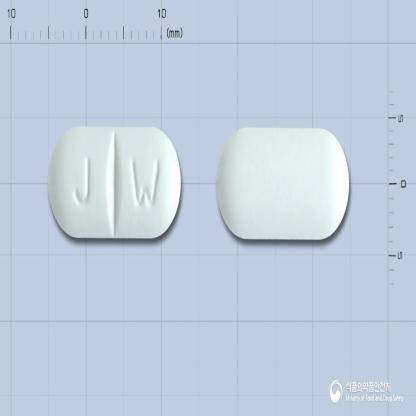pill: (46, 123, 182, 241), (214, 126, 350, 244)
